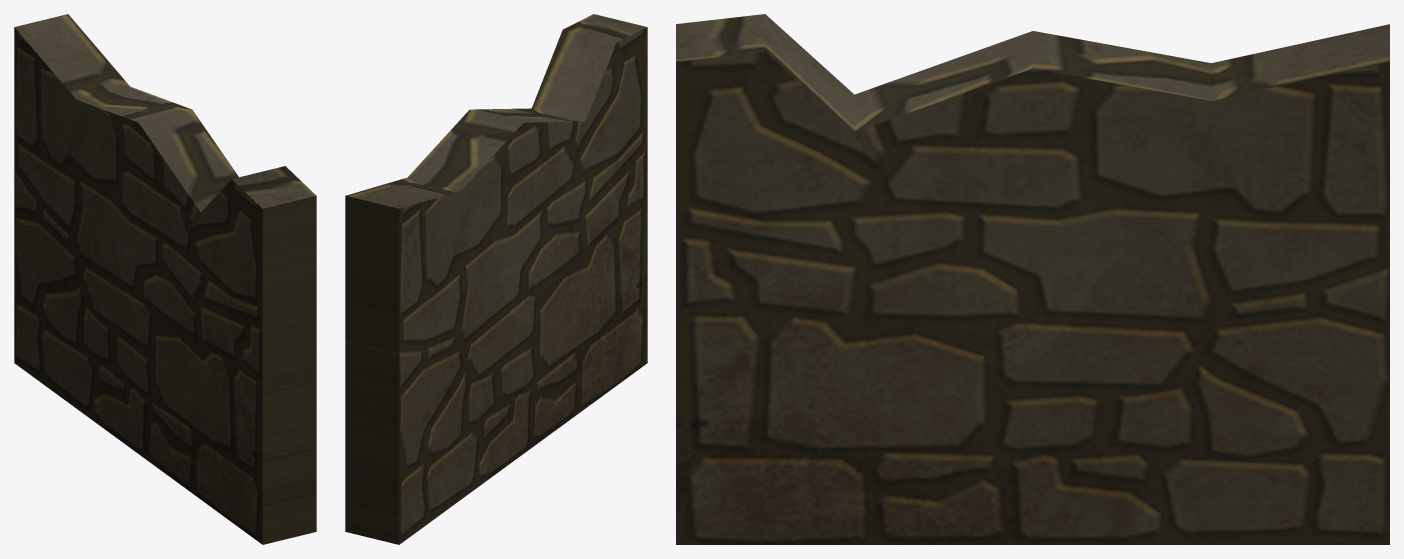
File: pared.FBX
3 renders of one model, left to right at view 1: azimuth 30°, elevation 25°; view 2: azimuth 150°, elevation 25°; view 3: azimuth 270°, elevation 25°, orthographic. The views are drawn at different scales.
Visible parts, largest first — view 1: Box045; view 2: Box045; view 3: Box045.
Boxes of the visible parts, x1,y1,x2,y2 form: Box045: (14,14,316,544); Box045: (345,14,647,544); Box045: (676,14,1389,544).
Size of the model in its own units: 200 by 1220 by 1600.
Materials: 1 (1 with a texture image).
